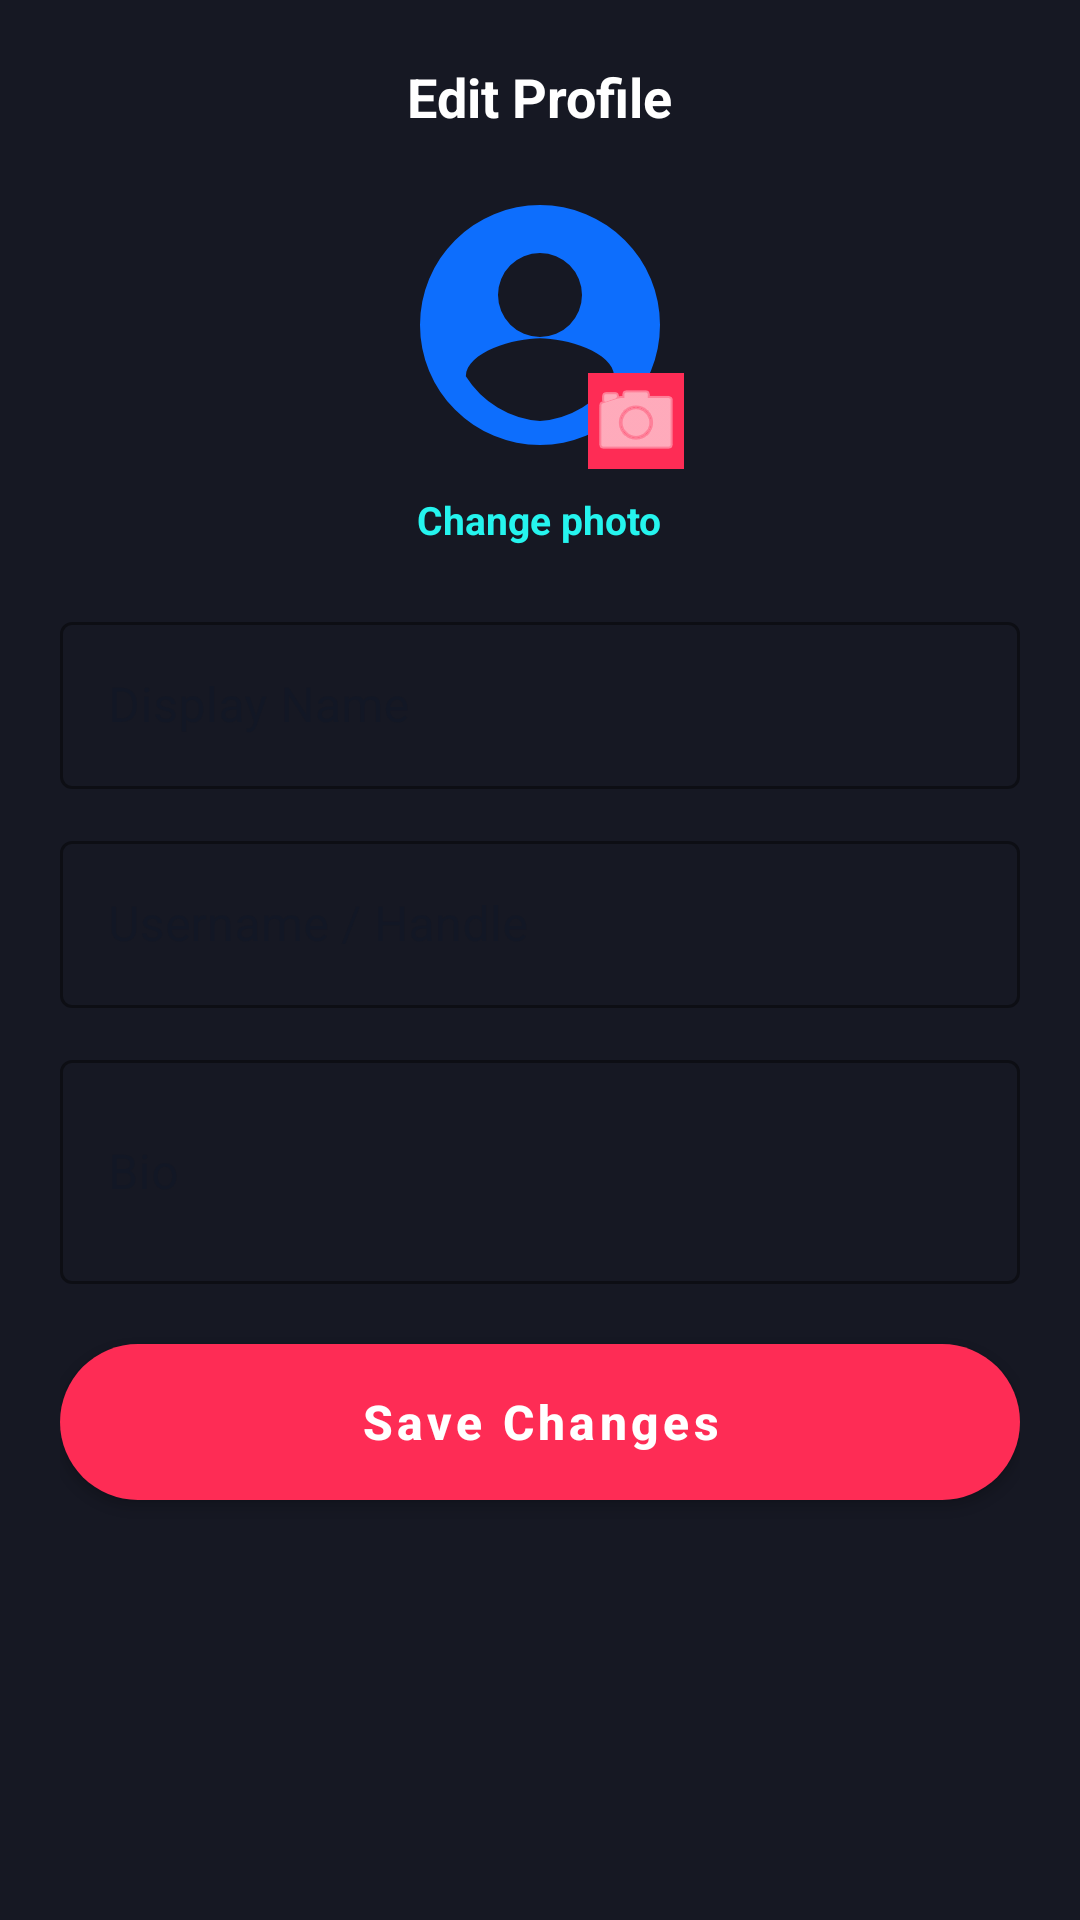

Screen size 1080px x 1920px. Icon name, then its box in pixels as region(x1, y1, x2, y2):
Change Avatar: region(588, 373, 684, 469)
